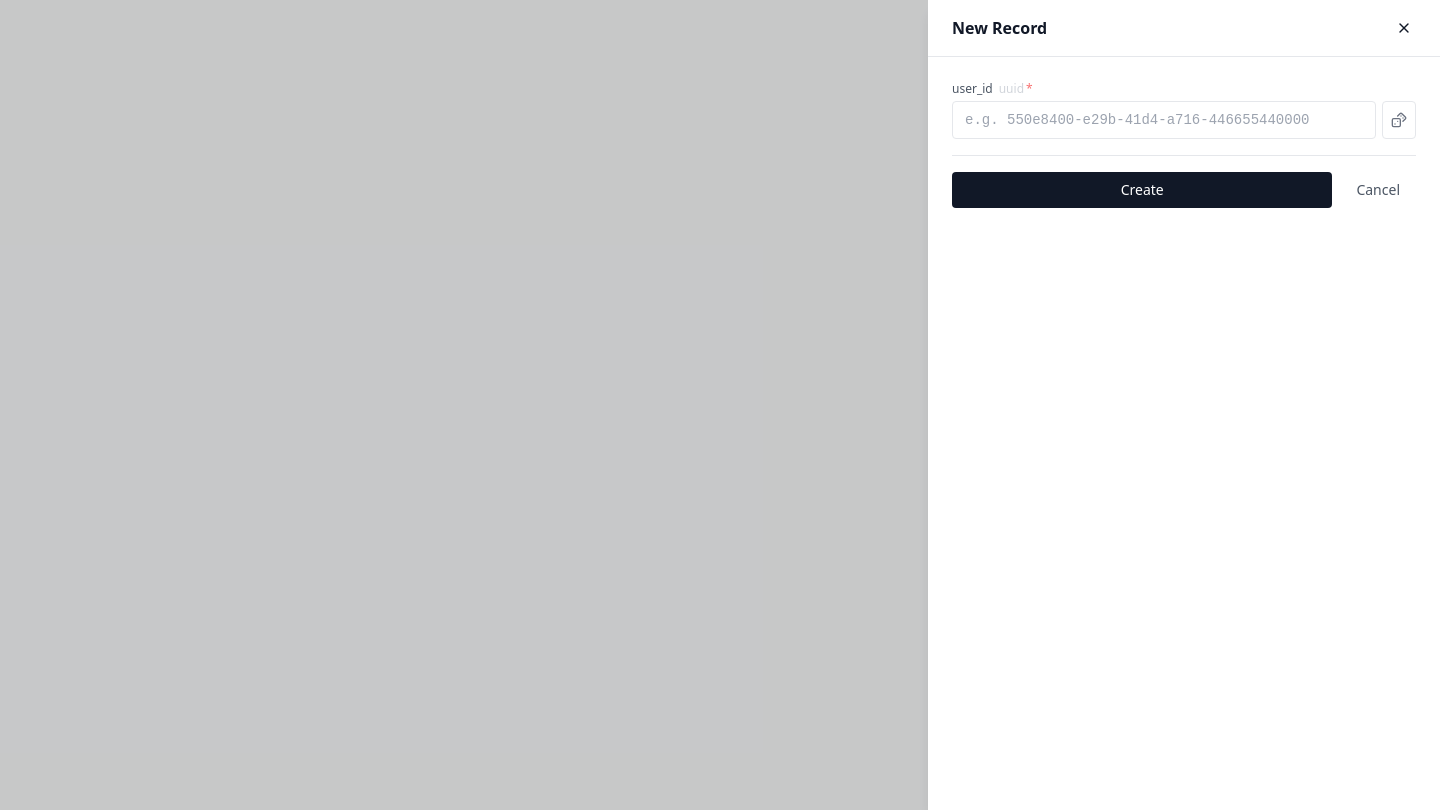
Test case: RecordForm › shows validation hint for invalid UUID on blur
This screenshot has width=1440, height=810.
Type "not-a-uuid" into the field. click: (1164, 120)
box: 952,101 -> 1376,139
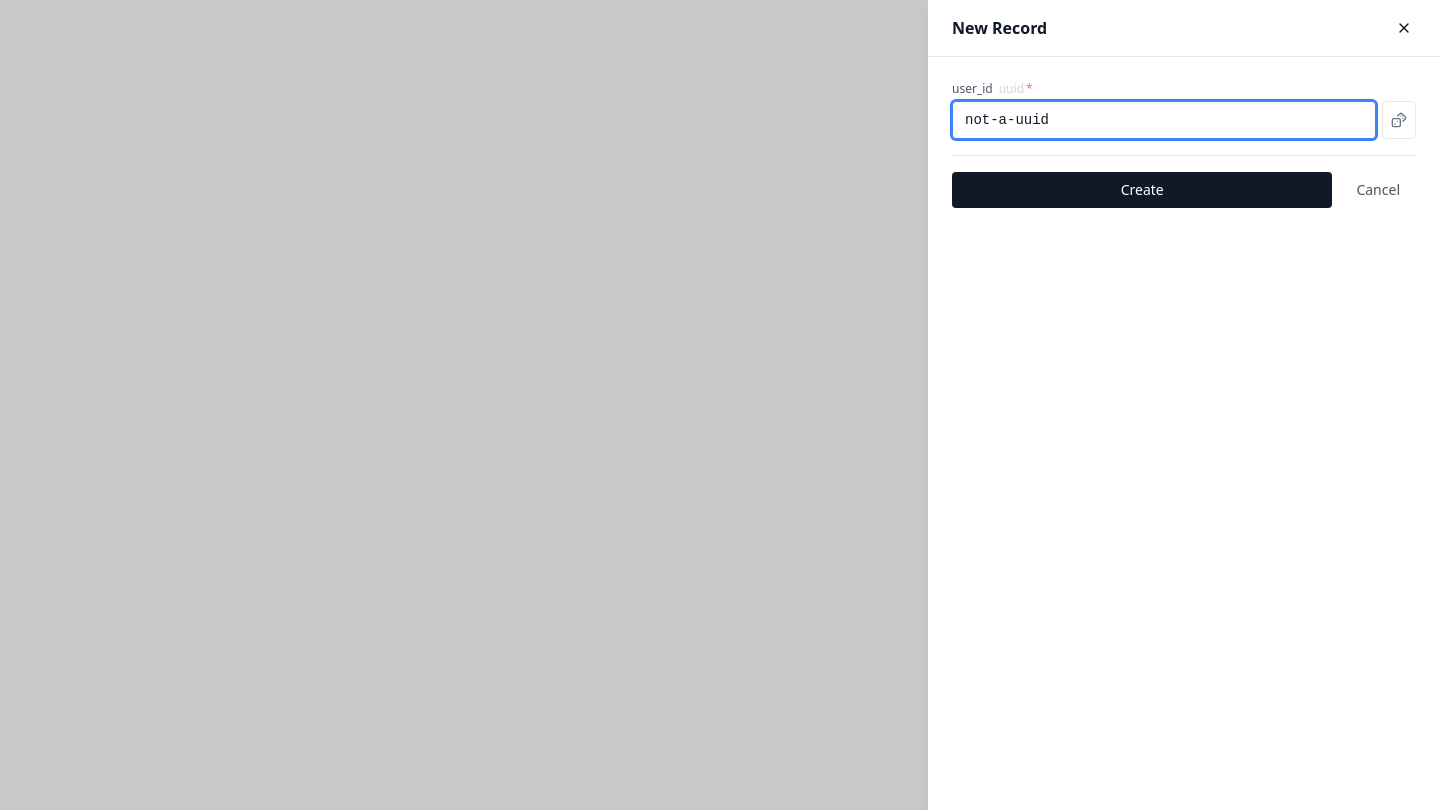
Press Tab
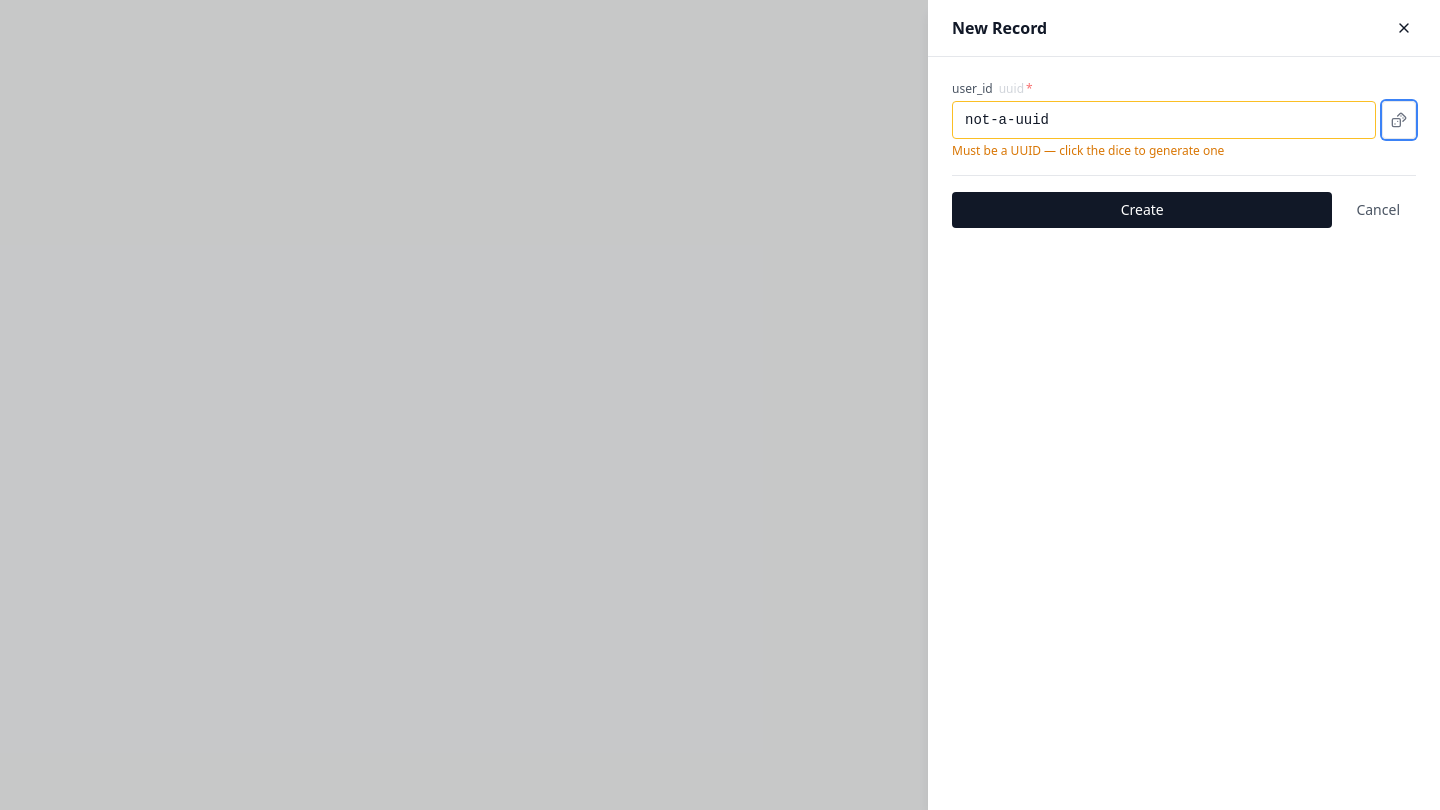
Check: the text "Must be a UUID — click the dice to generate one" is shown, box 952,142 -> 1224,159
